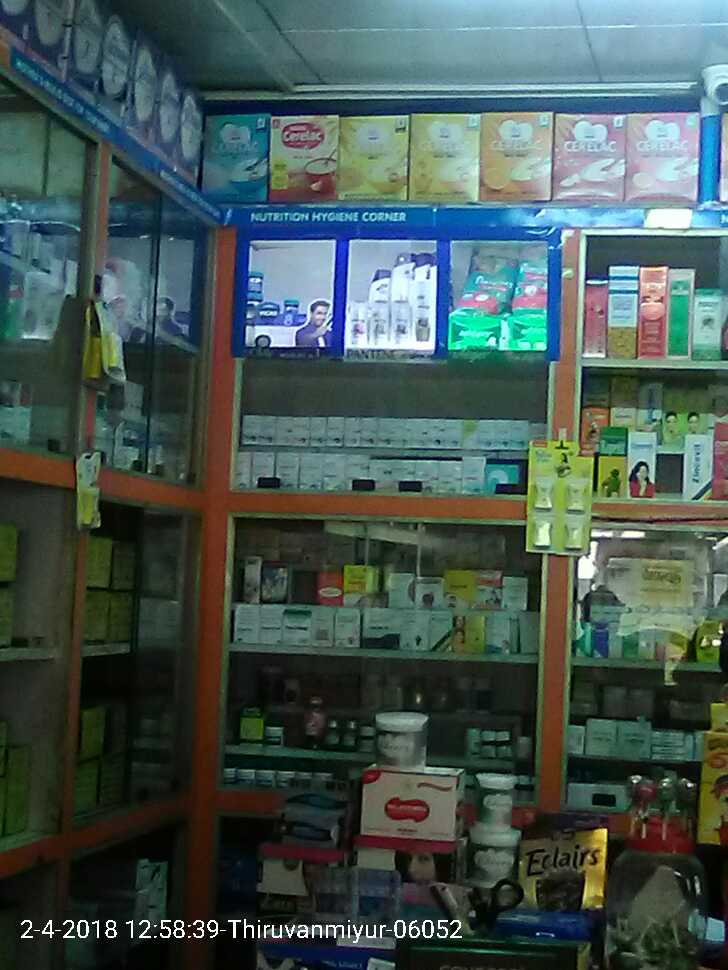vicks: (247, 267, 338, 334)
